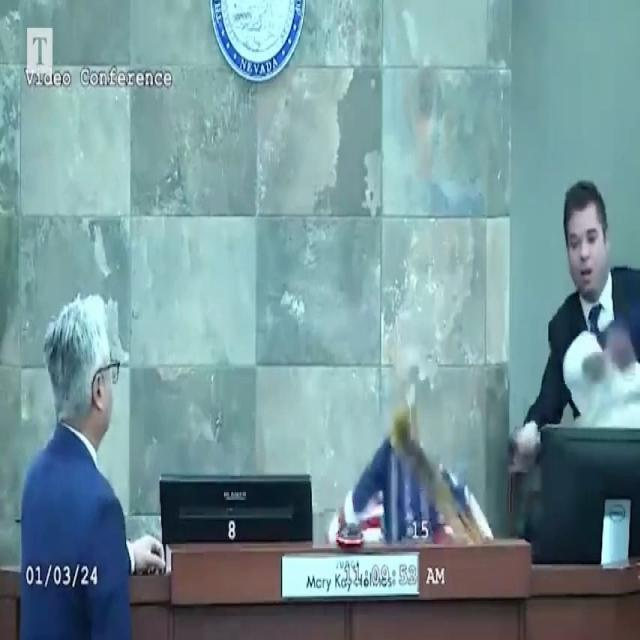fight: (503, 163, 640, 596)
non-fight: (8, 277, 173, 640)
